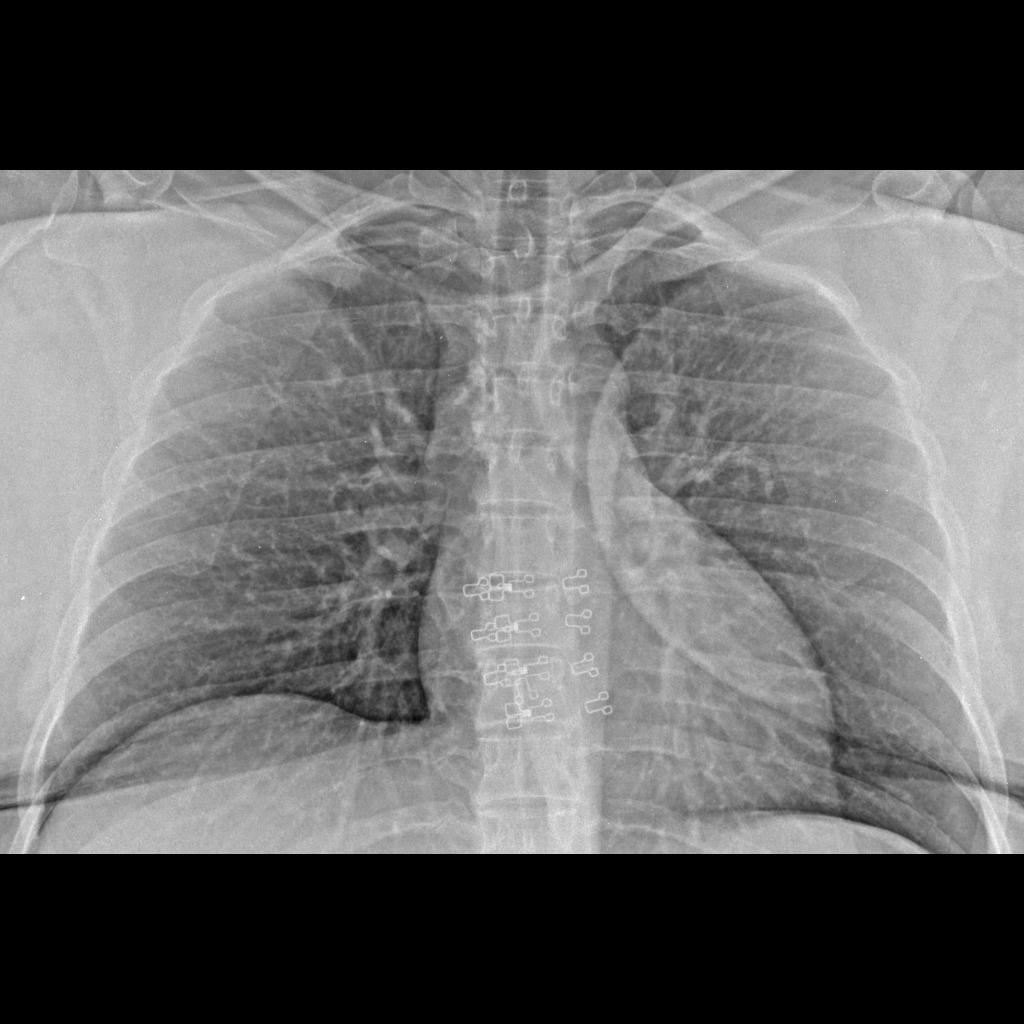Nodule: (317, 354, 360, 398)
